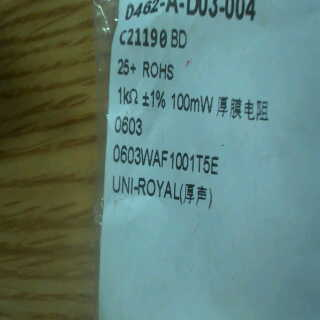1kR: (114, 84, 138, 109)
